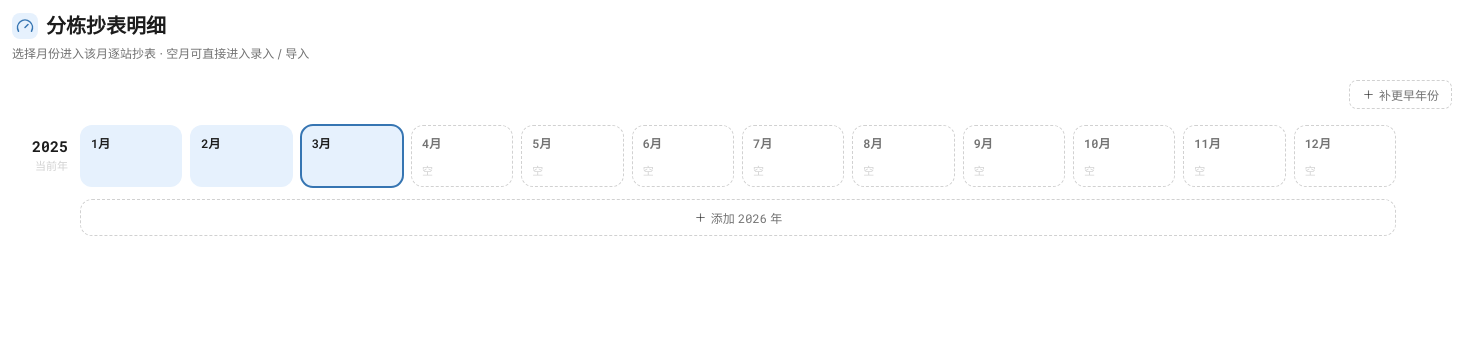
Test: 光伏分栋抄表 · 取数失败时不许猜 › ❗电站档案的失败不许被「换月」抹掉
Click the button with class "bmm-card" showing "3月": coordinates (352, 156) left=301, top=125, right=403, bottom=187
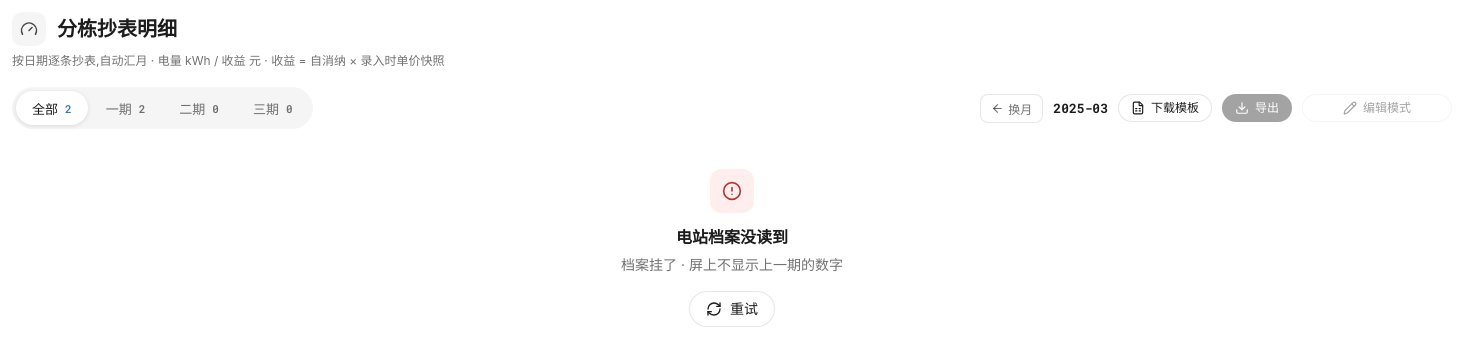
Expected: the text "电站档案没读到" is shown, left=676, top=225, right=788, bottom=249
